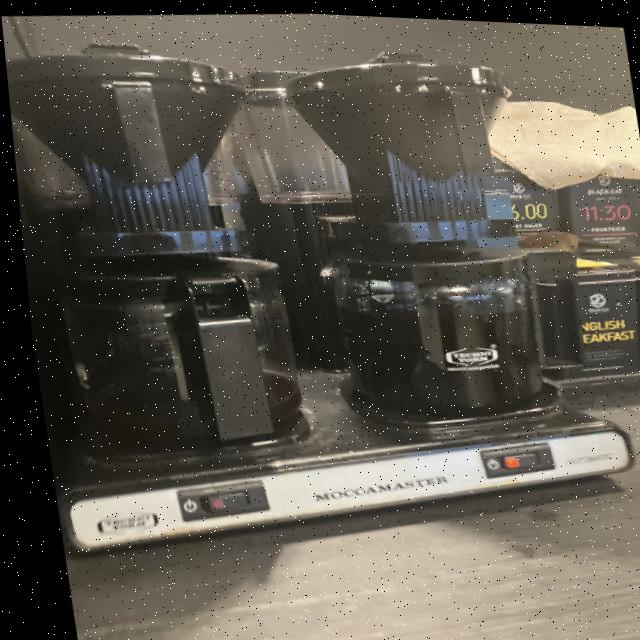coffee: (53, 245, 309, 458), (323, 233, 552, 425)
